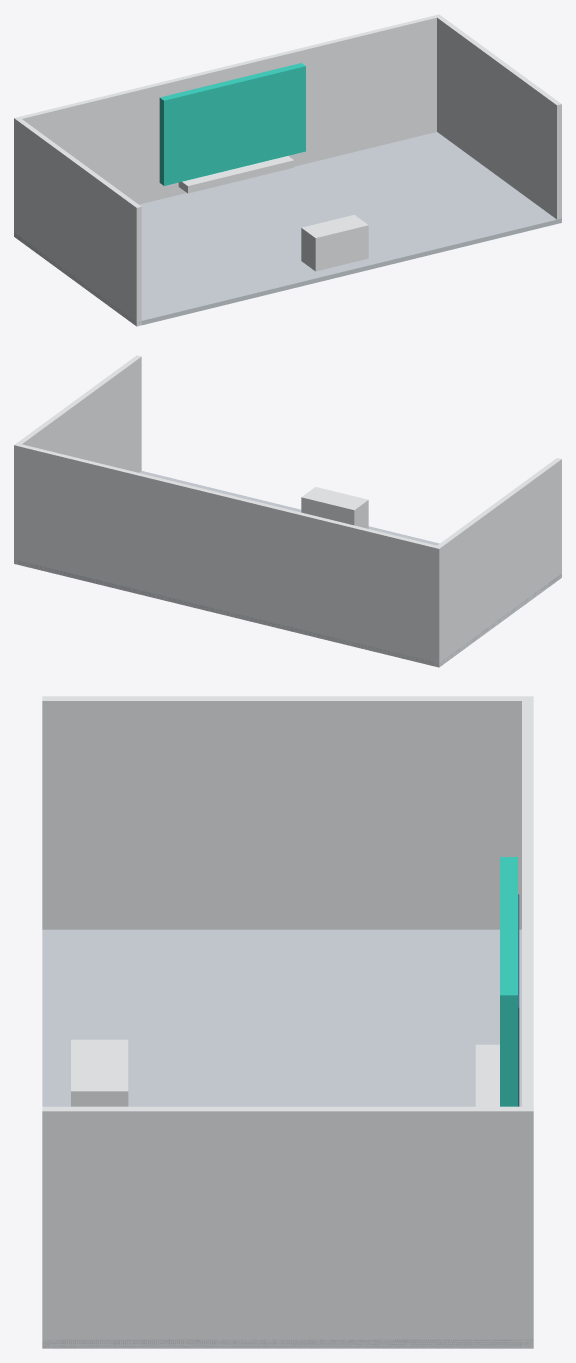
3 views of the same model, one above another, from view 1: azimuth 30°, elevation 25°; view 2: azimuth 150°, elevation 25°; view 3: azimuth 270°, elevation 25° (orthographic). The views are drawn at different scales.
Parts seen in each view (by area): view 1: Exhibition Booth Concept; view 2: Exhibition Booth Concept; view 3: Exhibition Booth Concept.
Part boxes in pixels (<box>): Exhibition Booth Concept: <box>14,14,561,326</box>; Exhibition Booth Concept: <box>14,355,561,667</box>; Exhibition Booth Concept: <box>42,696,533,1348</box>.
Bounding box in the file's own units: 12 × 3.2 × 6.
